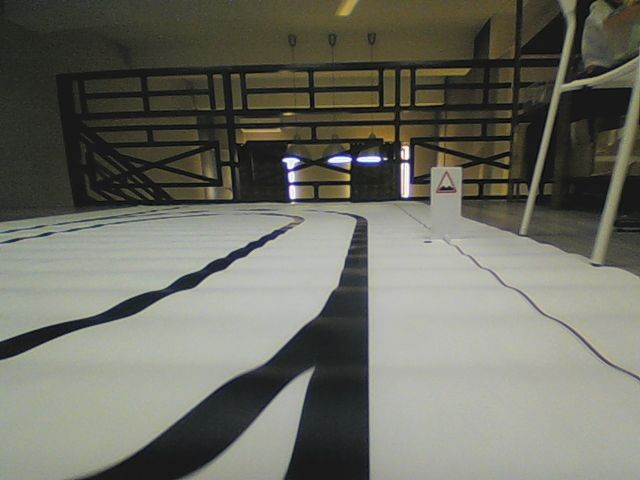Nerov: (434, 169, 458, 194)
